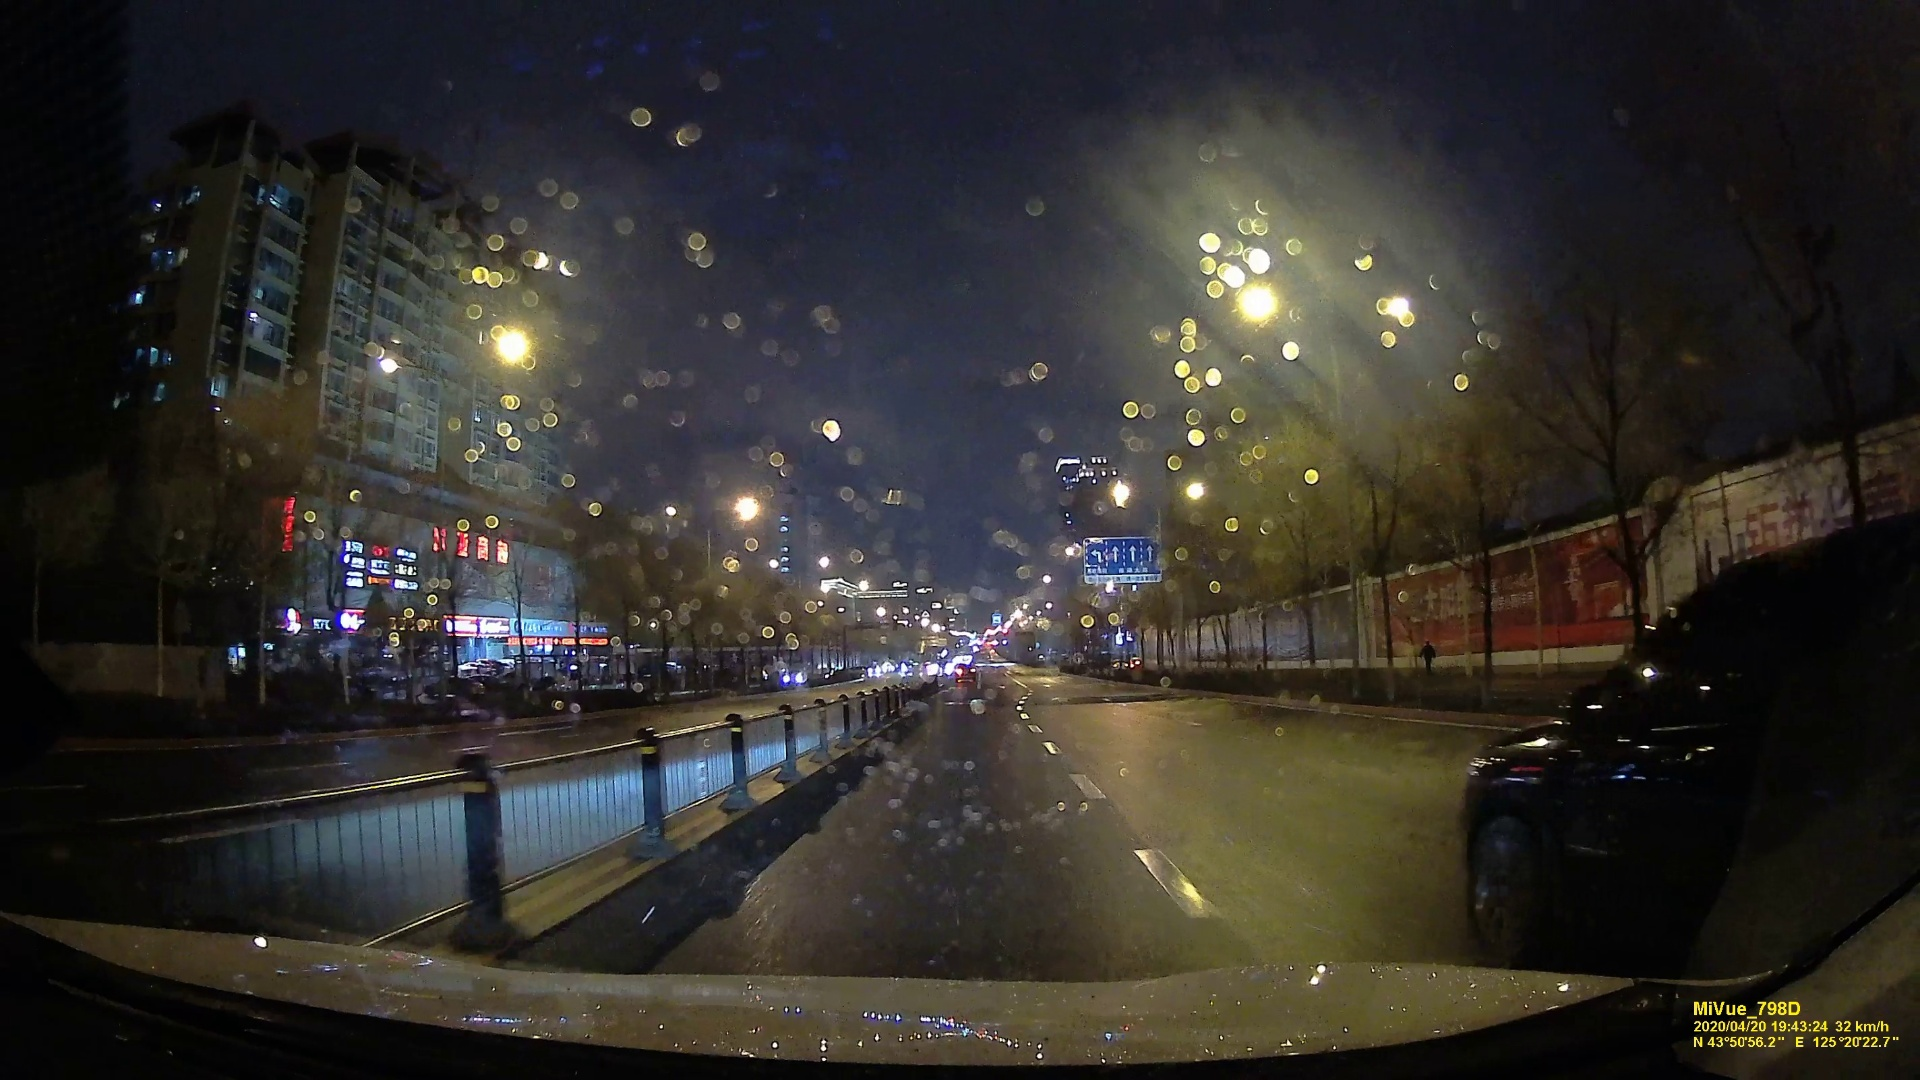traffic_sign: (1081, 535, 1156, 584)
vehicle: (1445, 535, 1907, 944), (778, 667, 807, 686), (955, 663, 977, 683)
